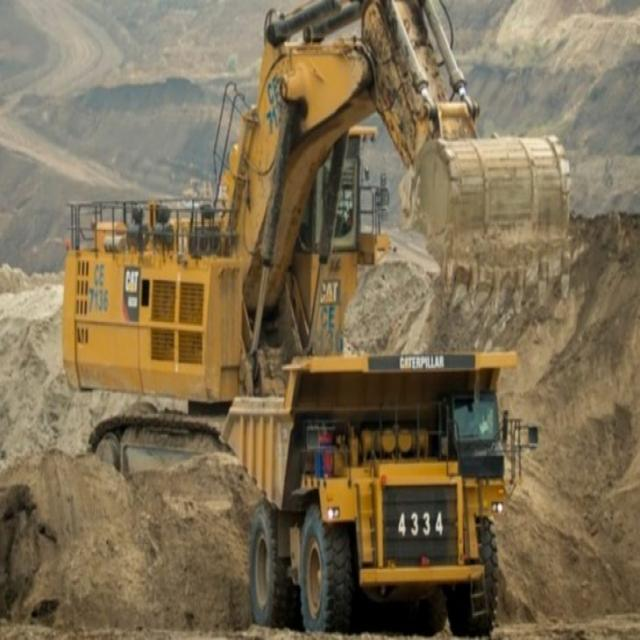dump_truck: (222, 316, 515, 630)
excavator: (49, 9, 594, 477)
